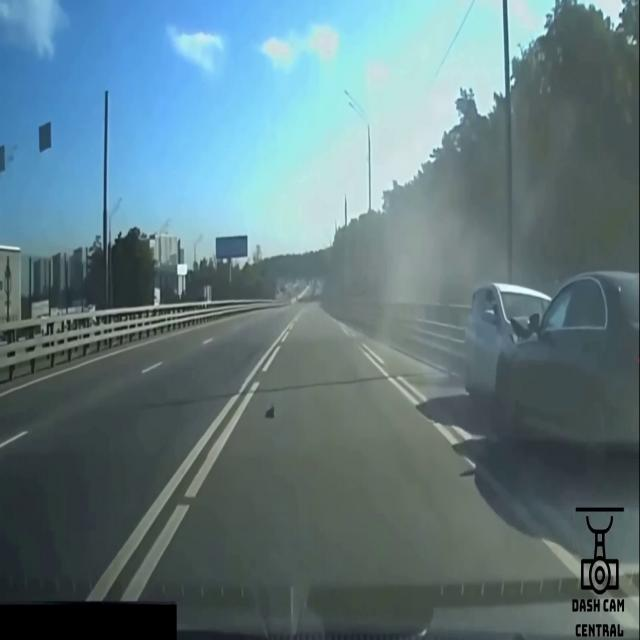accident: (461, 272, 640, 446)
